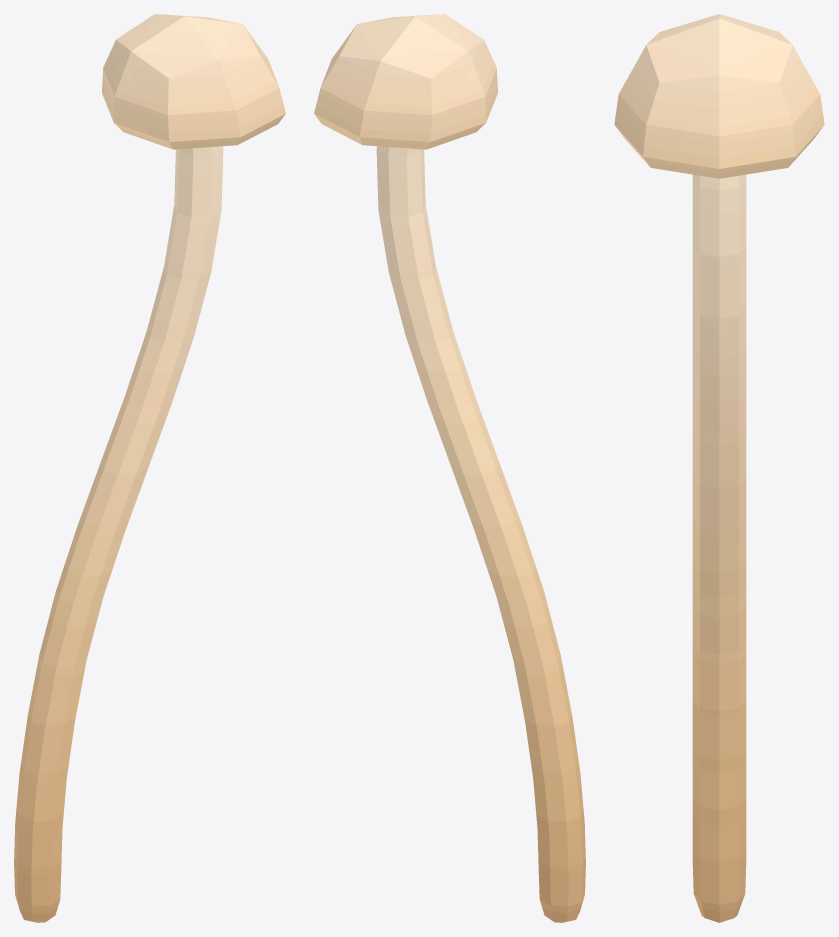
The model's file is Enoki_medium.glb.
3 renders of one model, left to right at view 1: azimuth 30°, elevation 25°; view 2: azimuth 150°, elevation 25°; view 3: azimuth 270°, elevation 25°, orthographic. The views are drawn at different scales.
Parts seen in each view (by area): view 1: Cube.003; view 2: Cube.003; view 3: Cube.003.
Part boxes in pixels (bbox=[...]): Cube.003: bbox=[14, 14, 285, 922]; Cube.003: bbox=[314, 14, 585, 922]; Cube.003: bbox=[614, 14, 824, 922].
Size of the model in its own units: 2.86 by 9.26 by 1.79.
1 material, 1 textured.
